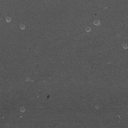corrosion: (5, 16, 13, 23), (93, 19, 101, 26), (85, 26, 92, 33), (19, 24, 26, 30)
